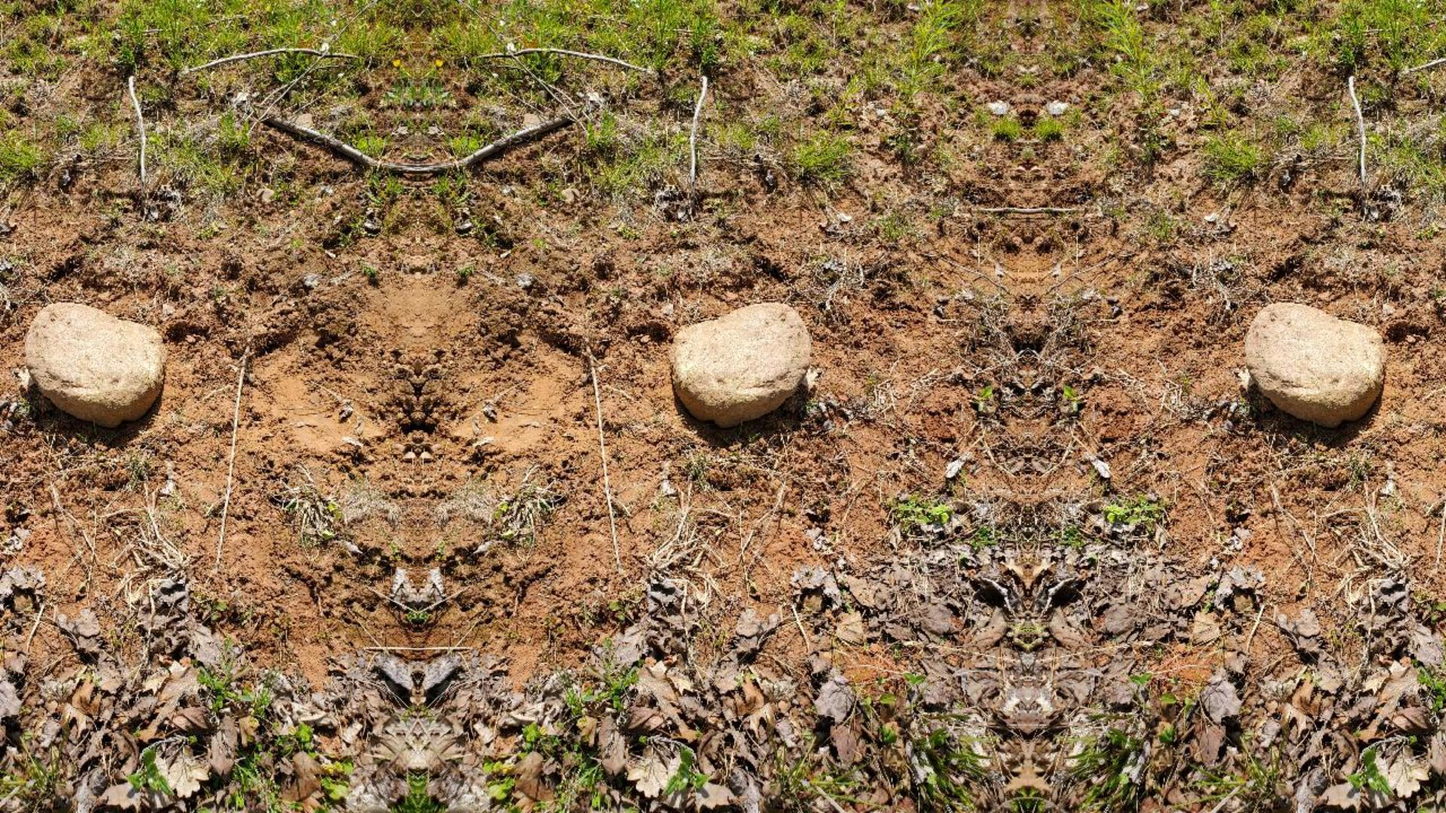rock: (25, 303, 166, 426), (1245, 303, 1386, 426), (671, 303, 810, 426)
